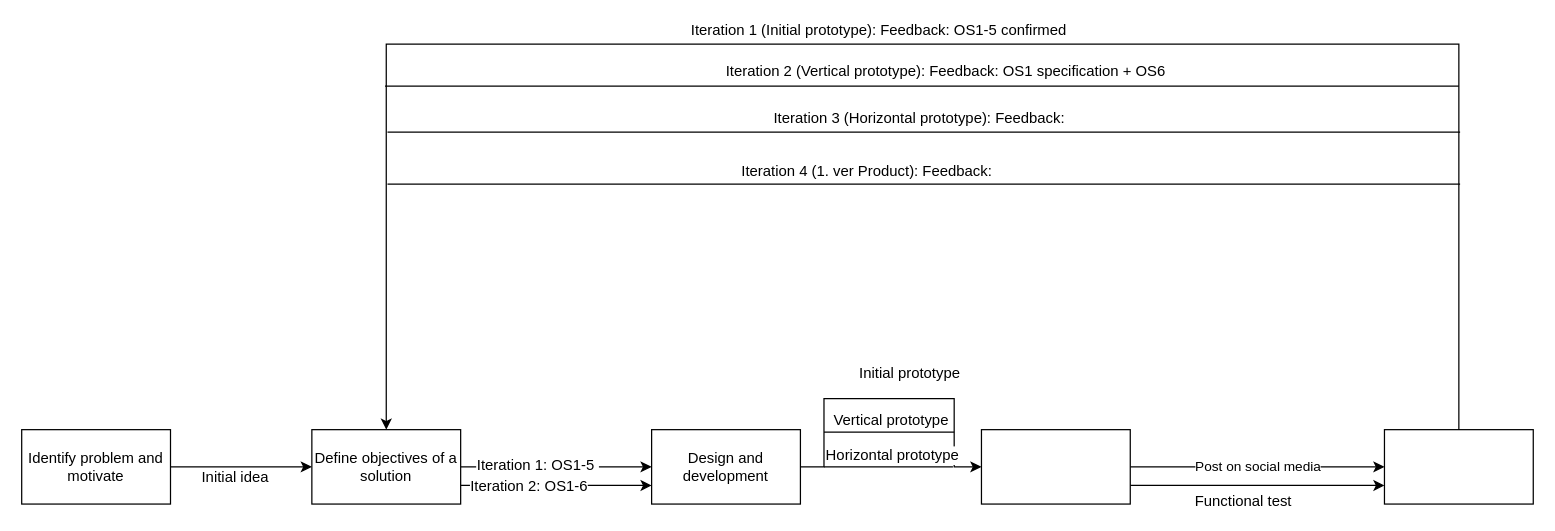
The diagram is 1555 pixels wide and 531 high, and some of its shapes have lost their labels. The box of each missing label's shape, as (x1, y1, x2, y2) in pixels:
Demonstration: (980, 428, 1130, 504)
Evaluation: (1383, 428, 1533, 504)
